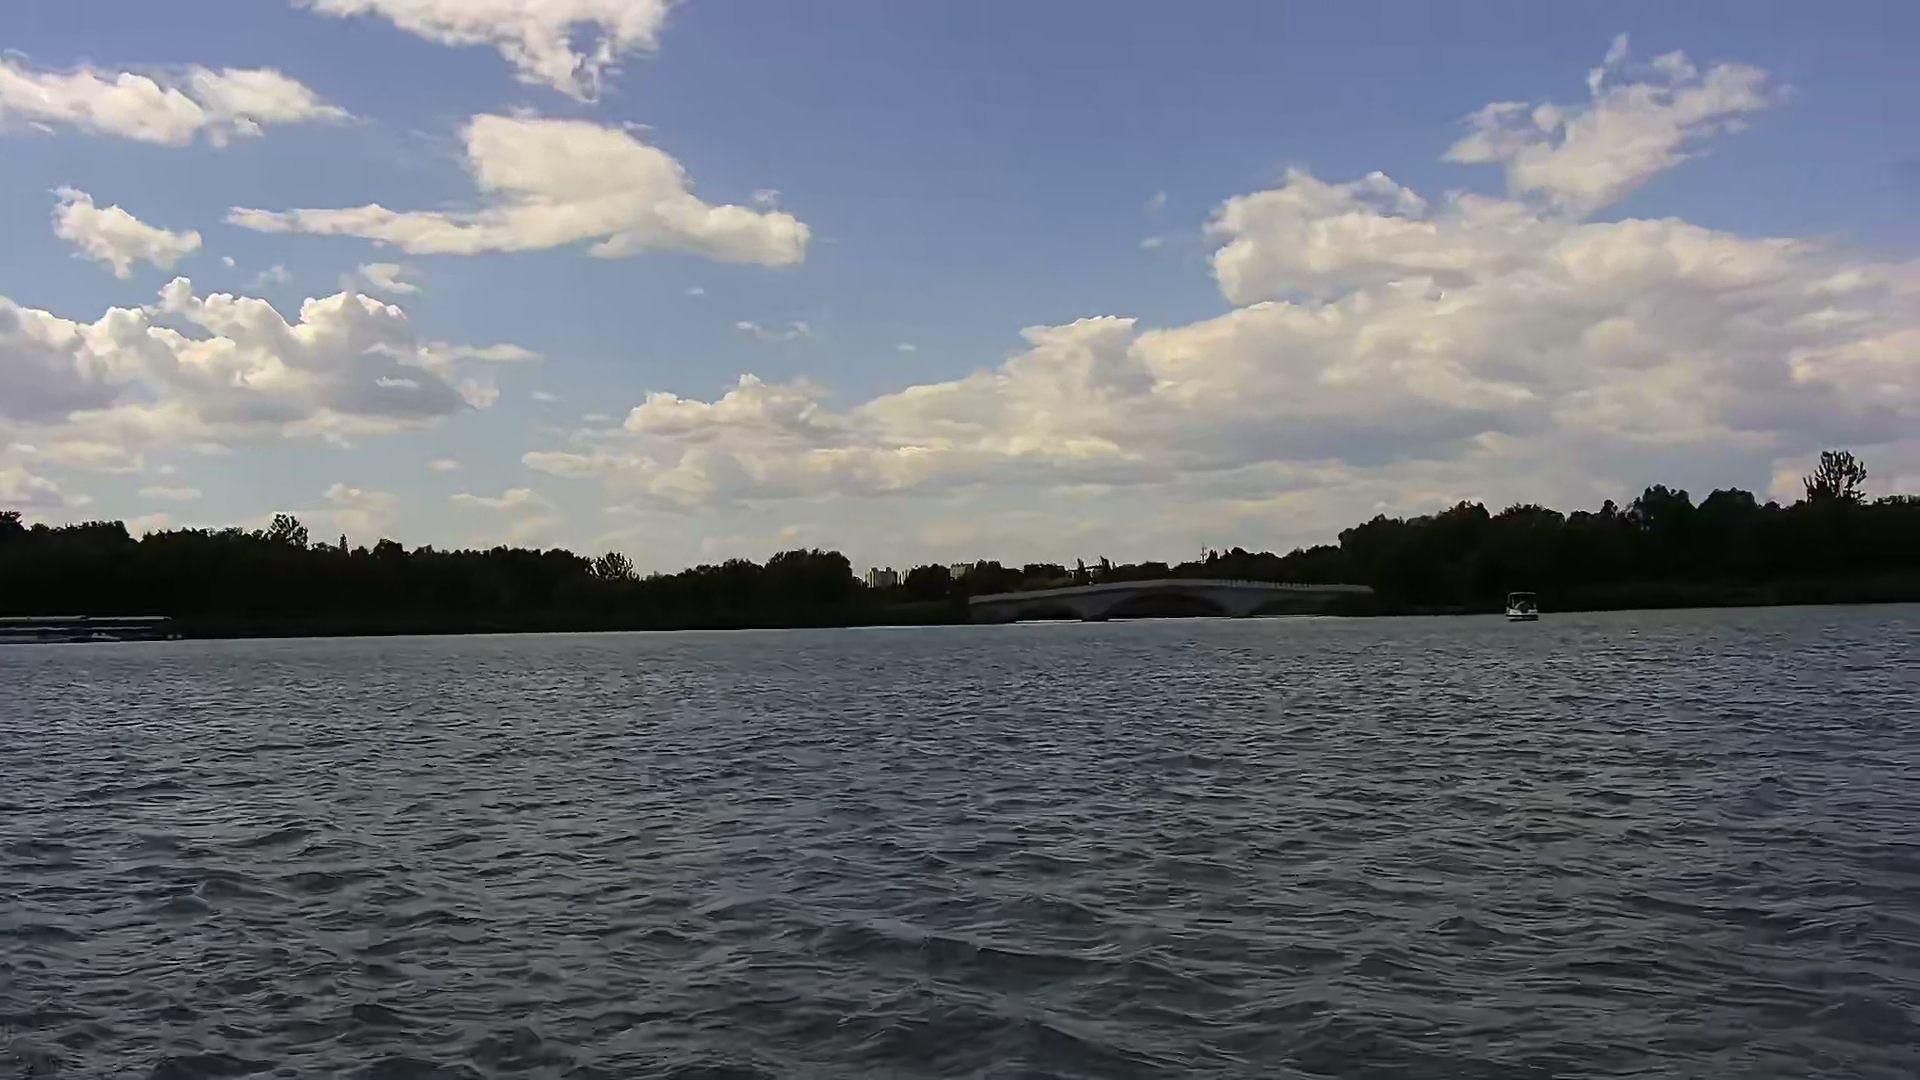boat: (1501, 582, 1551, 624)
bridge: (964, 570, 1387, 620)
